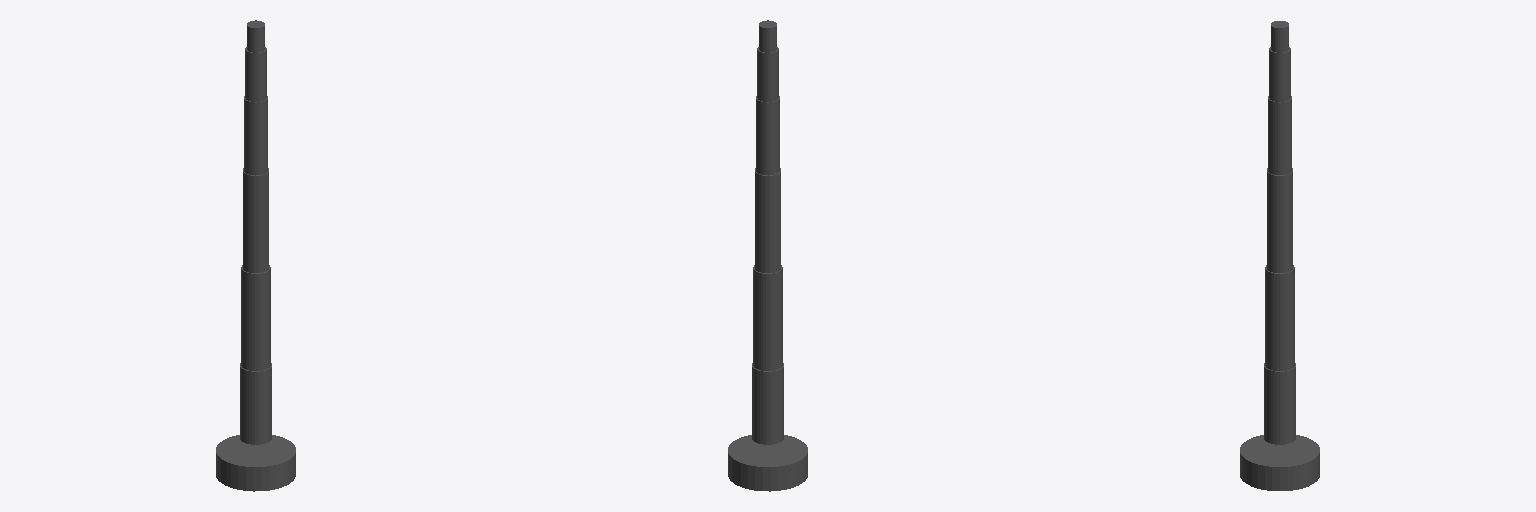
URDF robot description (simple_arm_6dof):
<?xml version="1.0"?>
<!--
  Synthetic 6-DOF serial arm for benchmarking.
  Conforms to galaw's parser: every joint is `revolute` and has
  origin(xyz+rpy), axis, and limit(lower+upper). Links are listed in
  kinematic-chain order (base first), which galaw's compute_fk assumes.
  Axes alternate to keep FK non-trivial (not a degenerate single-axis chain).
-->
<robot name="simple_arm_6dof">

  <material name="grey">
    <color rgba="0.4 0.4 0.4 1.0"/>
  </material>

  <!-- ===== LINKS (base first, then one per joint) ===== -->
  <link name="base_link">
    <visual>
      <origin xyz="0 0 0" rpy="0 0 0"/>
      <geometry><cylinder radius="0.15" length="0.1"/></geometry>
      <material name="grey"/>
    </visual>
  </link>

  <link name="link_1">
    <visual>
      <origin xyz="0 0 0.15" rpy="0 0 0"/>
      <geometry><cylinder radius="0.06" length="0.3"/></geometry>
      <material name="grey"/>
    </visual>
  </link>

  <link name="link_2">
    <visual>
      <origin xyz="0 0 0.2" rpy="0 0 0"/>
      <geometry><cylinder radius="0.055" length="0.4"/></geometry>
      <material name="grey"/>
    </visual>
  </link>

  <link name="link_3">
    <visual>
      <origin xyz="0 0 0.2" rpy="0 0 0"/>
      <geometry><cylinder radius="0.05" length="0.4"/></geometry>
      <material name="grey"/>
    </visual>
  </link>

  <link name="link_4">
    <visual>
      <origin xyz="0 0 0.15" rpy="0 0 0"/>
      <geometry><cylinder radius="0.045" length="0.3"/></geometry>
      <material name="grey"/>
    </visual>
  </link>

  <link name="link_5">
    <visual>
      <origin xyz="0 0 0.1" rpy="0 0 0"/>
      <geometry><cylinder radius="0.04" length="0.2"/></geometry>
      <material name="grey"/>
    </visual>
  </link>

  <link name="link_6">
    <visual>
      <origin xyz="0 0 0.05" rpy="0 0 0"/>
      <geometry><cylinder radius="0.035" length="0.1"/></geometry>
      <material name="grey"/>
    </visual>
  </link>

  <!-- ===== JOINTS (joint_i connects link_{i-1} -> link_i) ===== -->
  <joint name="joint_1" type="revolute">
    <parent link="base_link"/>
    <child link="link_1"/>
    <origin xyz="0 0 0.1" rpy="0 0 0"/>
    <axis xyz="0 0 1"/>
    <limit lower="-2.9" upper="2.9" effort="100.0" velocity="1.0"/>
  </joint>

  <joint name="joint_2" type="revolute">
    <parent link="link_1"/>
    <child link="link_2"/>
    <origin xyz="0 0 0.3" rpy="0 0 0"/>
    <axis xyz="0 1 0"/>
    <limit lower="-2.0" upper="2.0" effort="100.0" velocity="1.0"/>
  </joint>

  <joint name="joint_3" type="revolute">
    <parent link="link_2"/>
    <child link="link_3"/>
    <origin xyz="0 0 0.4" rpy="0 0 0"/>
    <axis xyz="0 1 0"/>
    <limit lower="-2.5" upper="2.5" effort="100.0" velocity="1.0"/>
  </joint>

  <joint name="joint_4" type="revolute">
    <parent link="link_3"/>
    <child link="link_4"/>
    <origin xyz="0 0 0.4" rpy="0 0 0"/>
    <axis xyz="0 0 1"/>
    <limit lower="-2.9" upper="2.9" effort="100.0" velocity="1.0"/>
  </joint>

  <joint name="joint_5" type="revolute">
    <parent link="link_4"/>
    <child link="link_5"/>
    <origin xyz="0 0 0.3" rpy="0 0 0"/>
    <axis xyz="0 1 0"/>
    <limit lower="-2.0" upper="2.0" effort="100.0" velocity="1.0"/>
  </joint>

  <joint name="joint_6" type="revolute">
    <parent link="link_5"/>
    <child link="link_6"/>
    <origin xyz="0 0 0.2" rpy="0 0 0"/>
    <axis xyz="0 0 1"/>
    <limit lower="-2.9" upper="2.9" effort="100.0" velocity="1.0"/>
  </joint>

</robot>

--- Facts derived from the render (not from the file) ---
Views: 3 orthographic renders of the robot side by side, from view 1: azimuth 30°, elevation 25°; view 2: azimuth 150°, elevation 25°; view 3: azimuth 270°, elevation 25°.
Robot: simple_arm_6dof — 7 links, 6 joints (6 revolute); root link base_link; default pose: all joints at 0.
Visible links, largest first — view 1: base_link, link_2, link_3, link_1, link_4, link_5, link_6; view 2: base_link, link_2, link_3, link_1, link_4, link_5, link_6; view 3: base_link, link_2, link_3, link_1, link_4, link_5, link_6.
Boxes of the visible links, box(x1,y1,x2,y2) form: base_link: box(216, 435, 295, 491); link_2: box(241, 265, 270, 370); link_3: box(243, 168, 268, 272); link_1: box(240, 363, 271, 444); link_4: box(244, 96, 267, 175); link_5: box(245, 47, 266, 101); link_6: box(247, 20, 264, 52); base_link: box(728, 435, 807, 491); link_2: box(753, 265, 782, 370); link_3: box(755, 168, 780, 272); link_1: box(752, 363, 783, 444); link_4: box(756, 96, 779, 175); link_5: box(757, 47, 778, 101); link_6: box(759, 20, 776, 52); base_link: box(1240, 435, 1319, 490); link_2: box(1265, 265, 1294, 370); link_3: box(1267, 168, 1292, 272); link_1: box(1264, 363, 1295, 444); link_4: box(1268, 96, 1291, 174); link_5: box(1269, 47, 1290, 101); link_6: box(1271, 21, 1288, 52).
Size in the robot's own frame: 0.3 by 0.3 by 1.85 metres.
Geometry: primitives only (box / cylinder / sphere), no mesh files.
